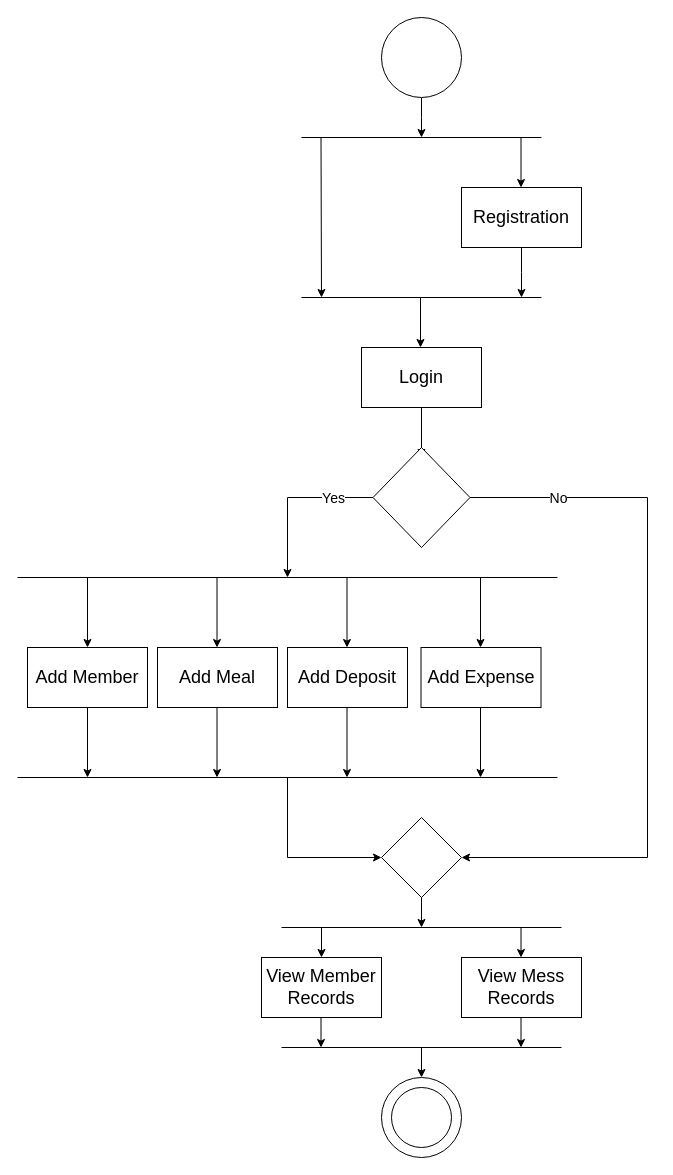
Some shapes in this 673 by 1175 pixel diagram are drawn without their labels. Each missing label, with the centre of its shape:
End: pixel 421 1117
Is Admin?: pixel 421 497
Start: pixel 421 57
